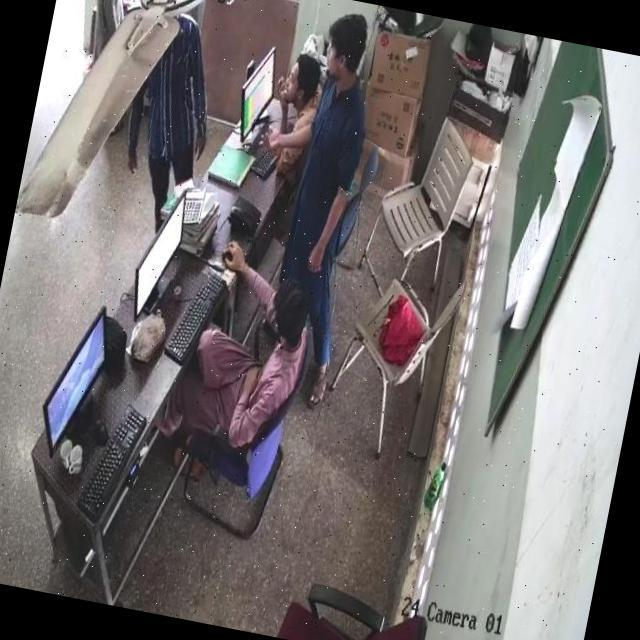person: (266, 18, 402, 398), (173, 290, 324, 464), (123, 16, 212, 243), (271, 43, 336, 181)
